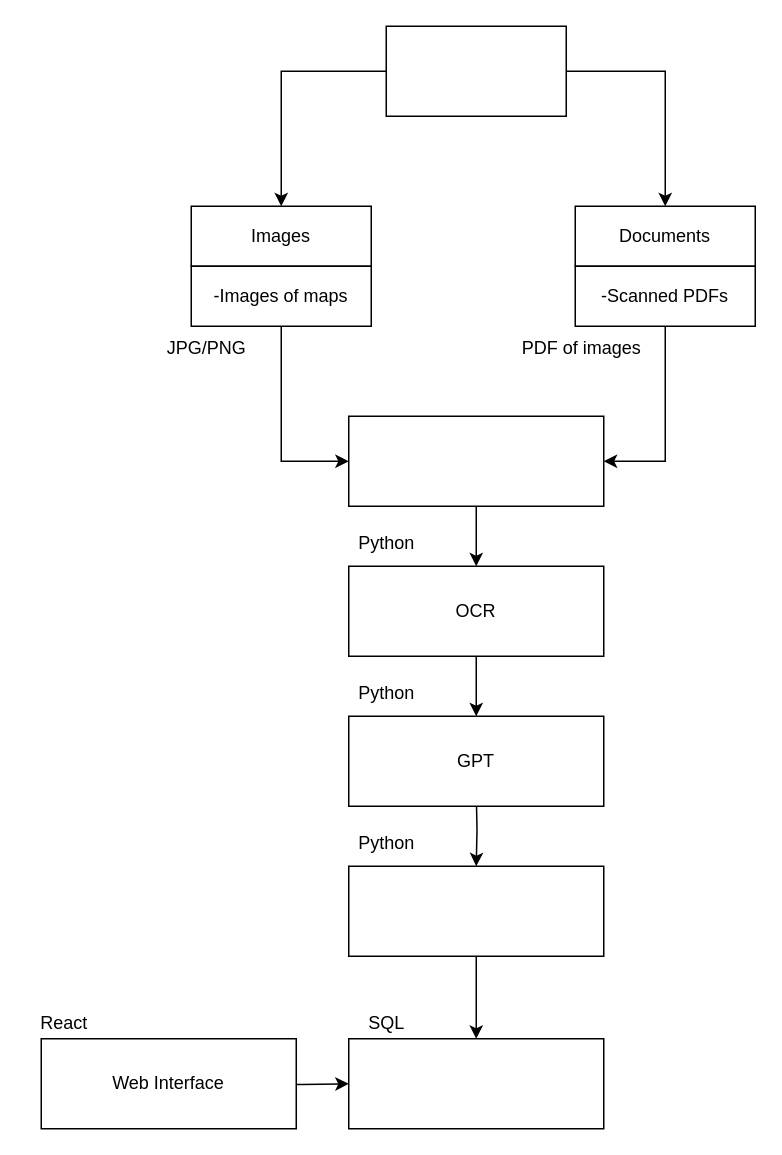
The diagram is 782 pixels wide and 1155 high, and some of its shapes have lost their labels. The centre of each missing label's shape, as x and y in pixels:
"Corpra" belongs at (x=475, y=70).
"generateSQL.py" belongs at (x=475, y=910).
"Postgres" belongs at (x=475, y=1083).
"Preprocess" belongs at (x=475, y=460).
